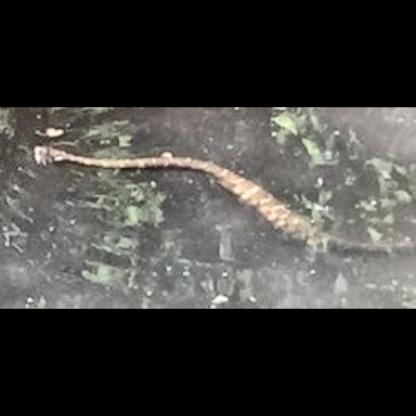Snake: (38, 143, 356, 267)
